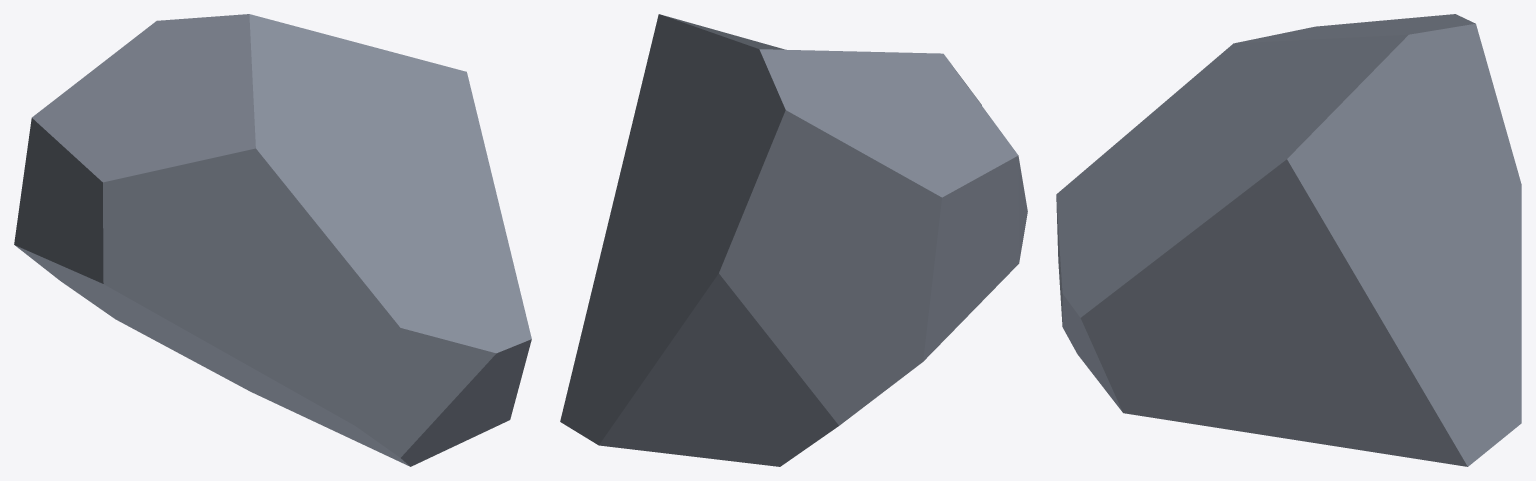
The model's file is Stone A.fbx.
The picture shows the model from 3 angles, left to right: view 1: azimuth 30°, elevation 25°; view 2: azimuth 150°, elevation 25°; view 3: azimuth 270°, elevation 25°; orthographic projection. The views are drawn at different scales.
Visible parts, largest first — view 1: Stone A; view 2: Stone A; view 3: Stone A.
Part boxes in pixels (<box>): Stone A: <box>14,14,531,466</box>; Stone A: <box>560,14,1027,466</box>; Stone A: <box>1056,14,1521,466</box>.
Size of the model in its own units: 173 by 172 by 203.
